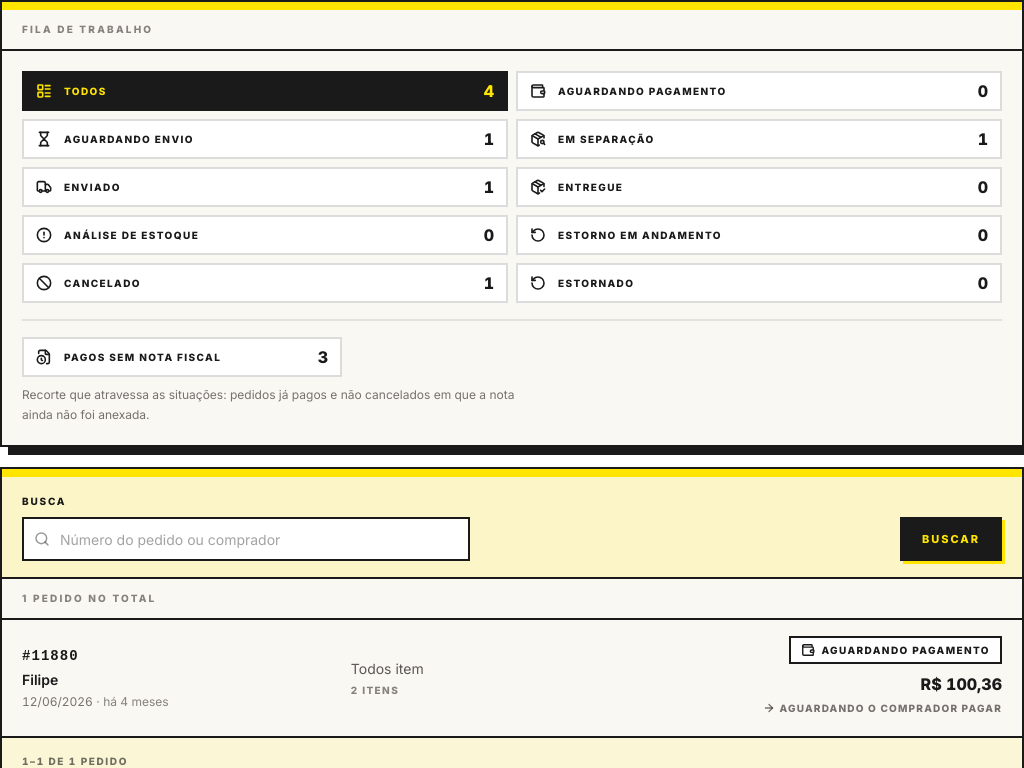
Scenario: VendorOrdersBoard › switches the queue via pushState and fetches only the list data
What coordinates should you click on to do the following:
click the button with aria-label "aguardando envio: 1"
I would click on:
 (129, 139)
Its box is [22,119,508,159].
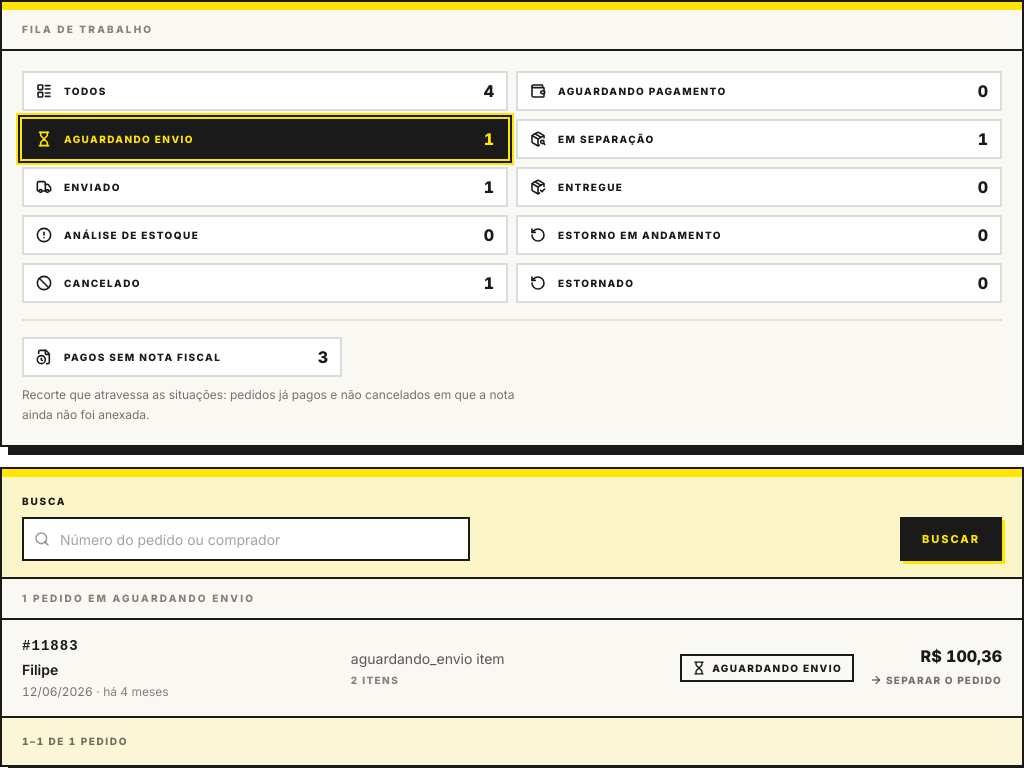
Expected: the text "#11883" is shown, [22,638,79,654]
